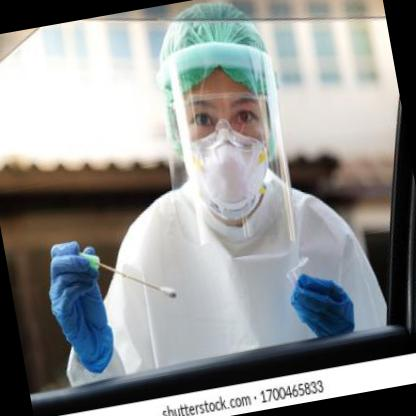Gloves: (40, 237, 121, 379), (288, 266, 357, 340)
